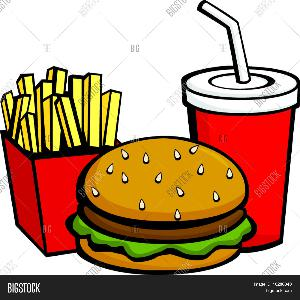cheeseburger: (67, 131, 267, 277)
